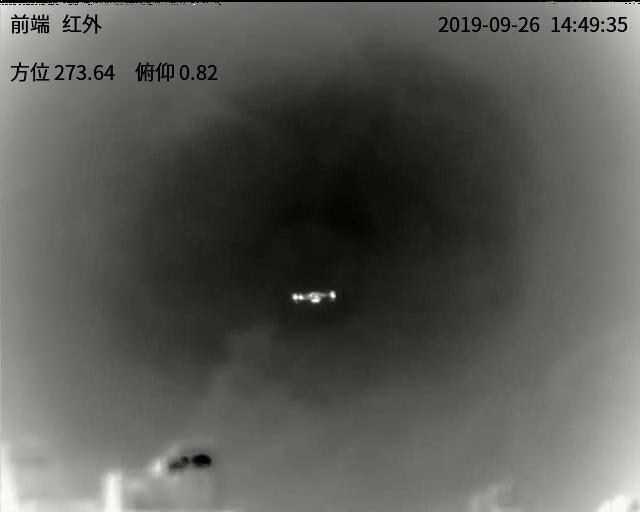DRONE: (291, 289, 337, 305)
